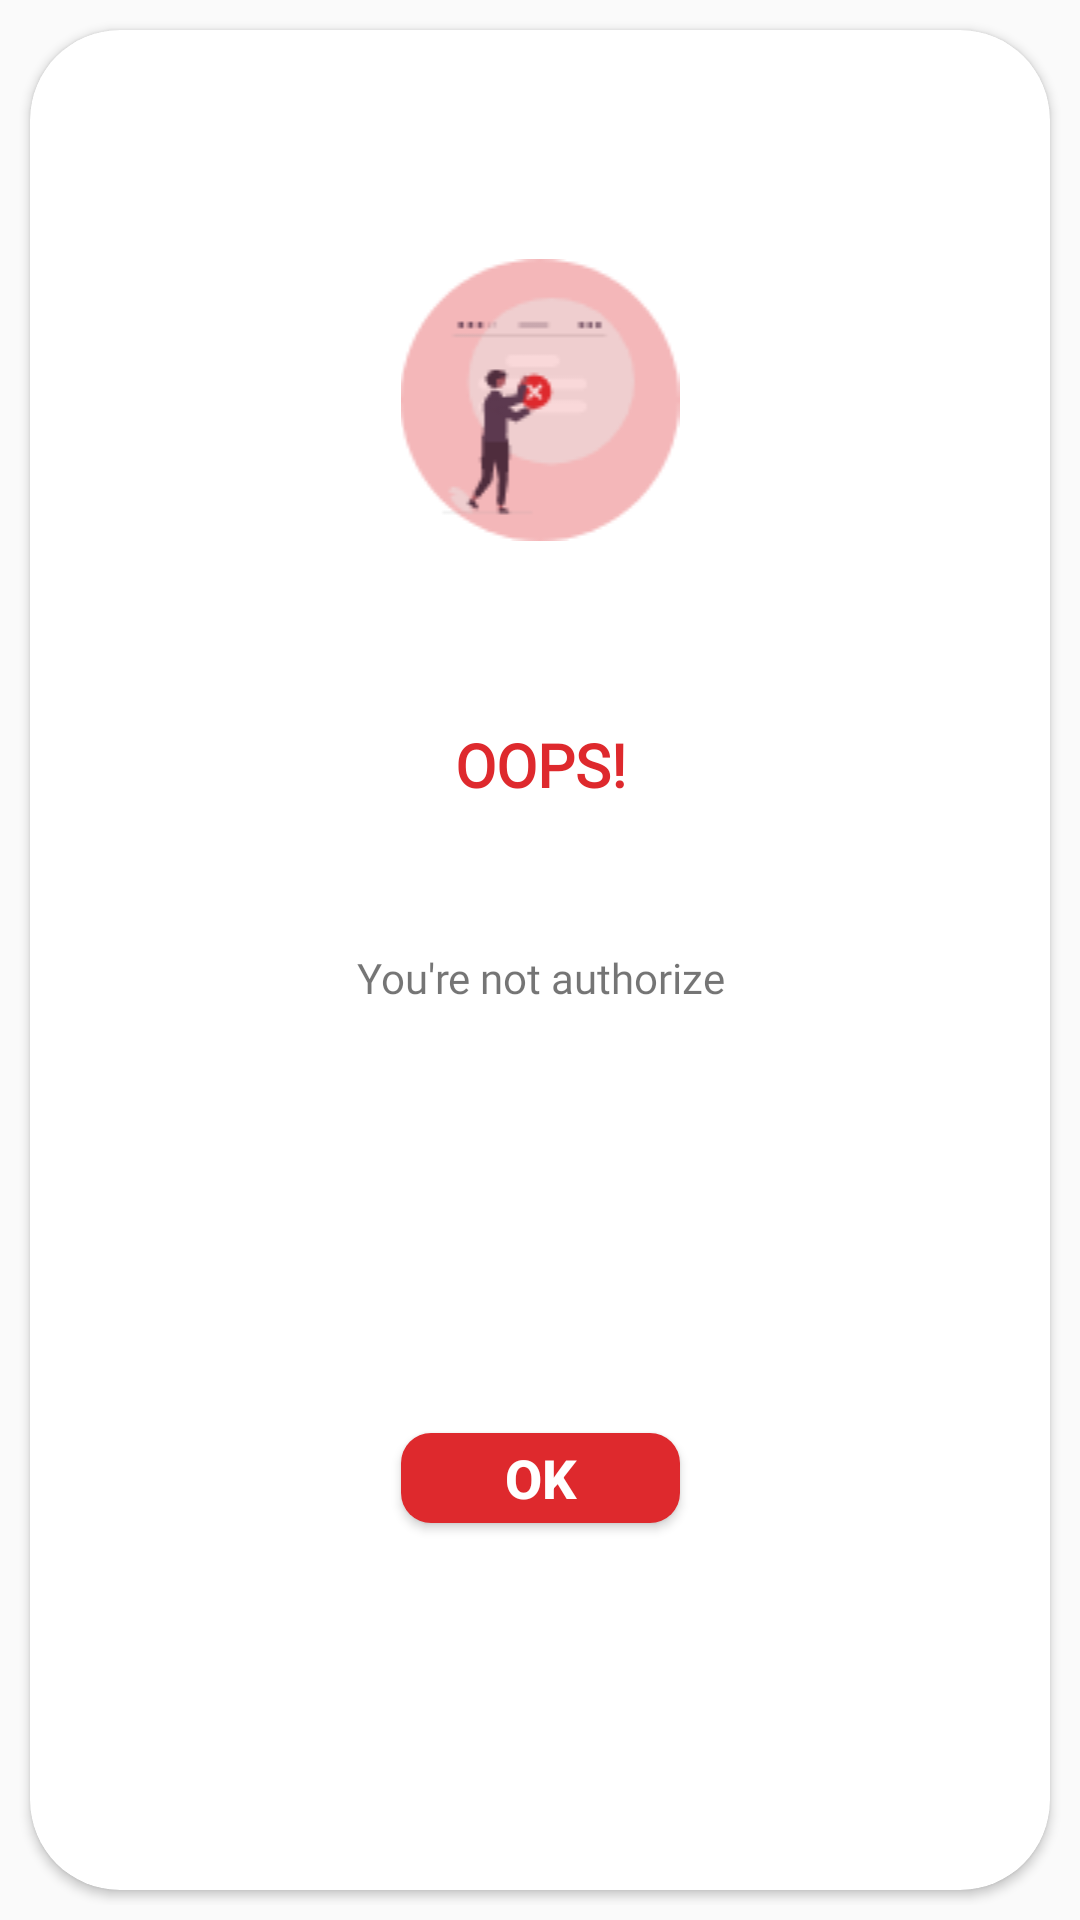

Where to tap for icons on this 1080*1920 app screen, as (x,y):
not authorize: (540,400)
